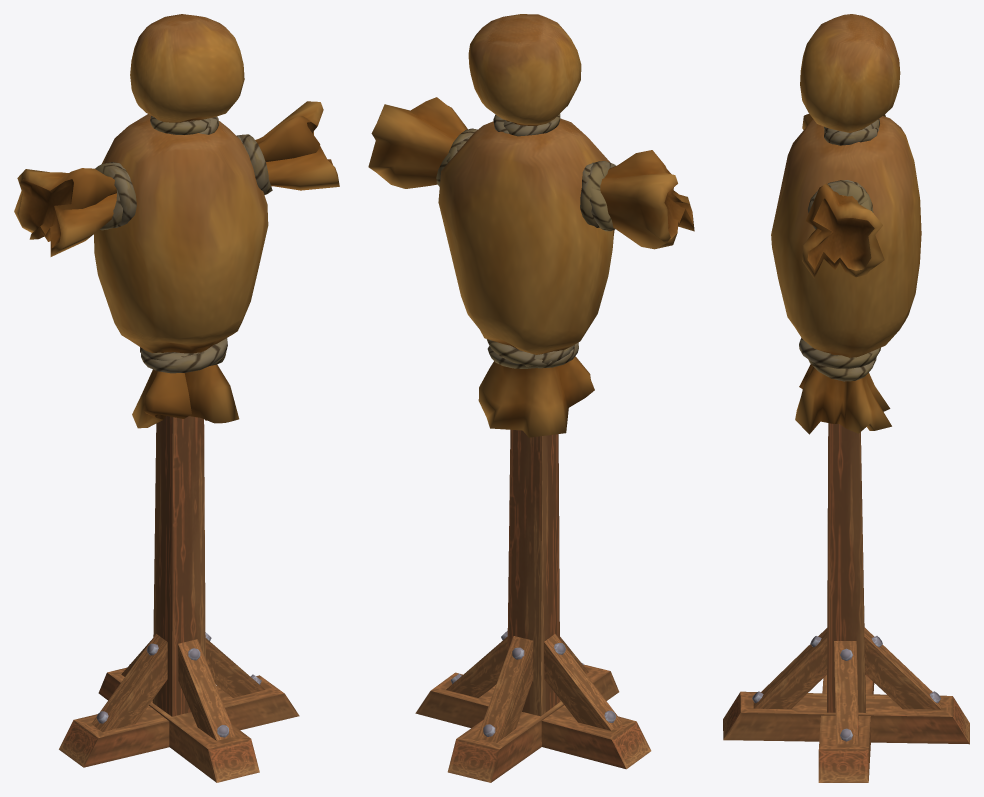
File: dummy.glb
3 renders of one model, left to right at view 1: azimuth 30°, elevation 25°; view 2: azimuth 150°, elevation 25°; view 3: azimuth 270°, elevation 25°, orthographic.
Parts seen in each view (by area): view 1: Dummy; view 2: Dummy; view 3: Dummy.
Boxes of the visible parts, x1,y1,x2,y2 form: Dummy: (14, 14, 339, 782); Dummy: (368, 14, 694, 782); Dummy: (723, 14, 969, 782).
Size of the model in its own units: 0.8085 by 1.86 by 0.5846.
3 materials, 3 textured.
